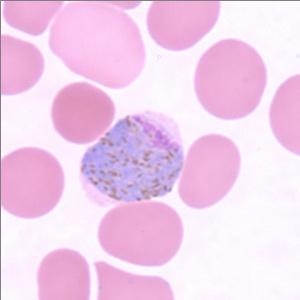Infected: (79, 113, 182, 206)
Uninfected: (48, 1, 146, 88), (194, 38, 266, 119), (99, 201, 183, 266), (179, 133, 241, 211), (0, 145, 66, 218), (51, 81, 114, 145), (148, 0, 220, 51), (36, 247, 91, 300), (0, 34, 46, 95)
